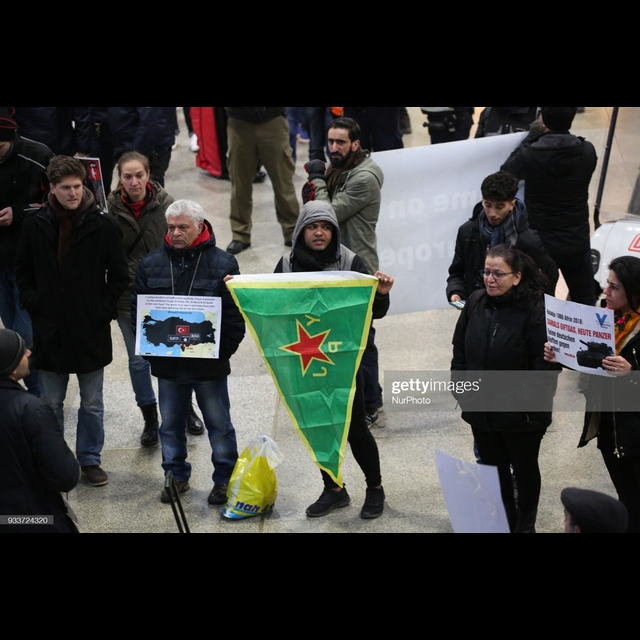YPJ: (281, 310, 345, 391)
